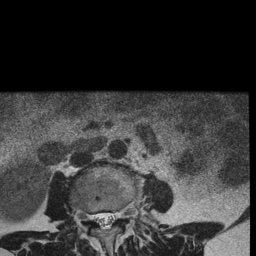CCS_normal: (101, 205, 108, 234)
LFS_normal: (116, 205, 123, 226)
LLS_normal: (108, 206, 115, 231)
RFS_normal: (87, 207, 95, 227)
RLS_normal: (94, 208, 102, 230)
